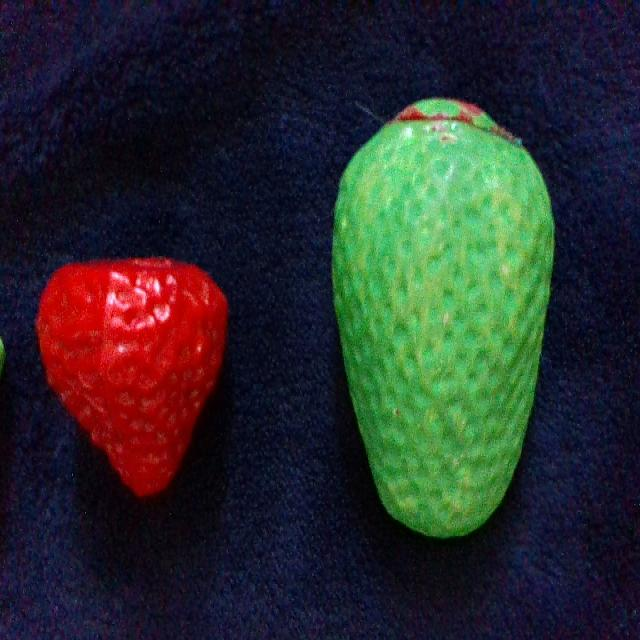chica_roja: (36, 259, 228, 496)
verde: (332, 99, 553, 536)
